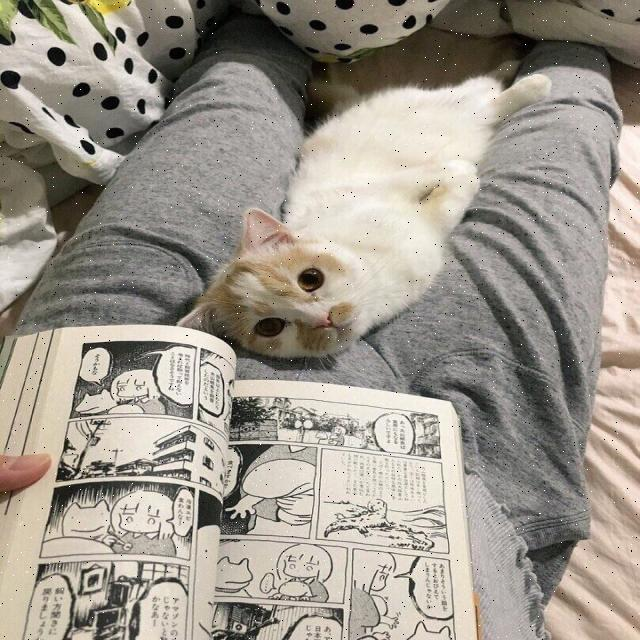Cats: (161, 58, 578, 386)
